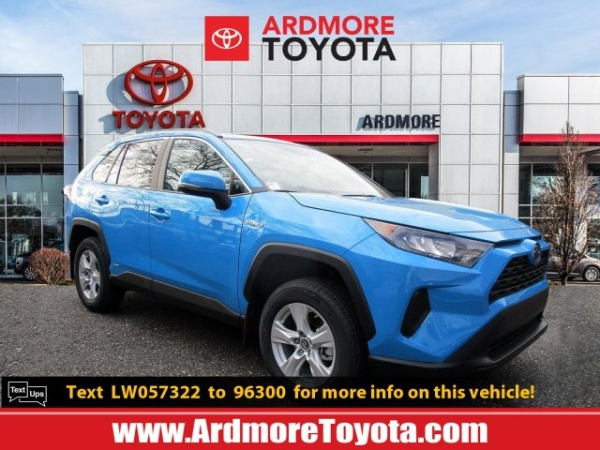Toyota RAV-4: (62, 129, 551, 375)
